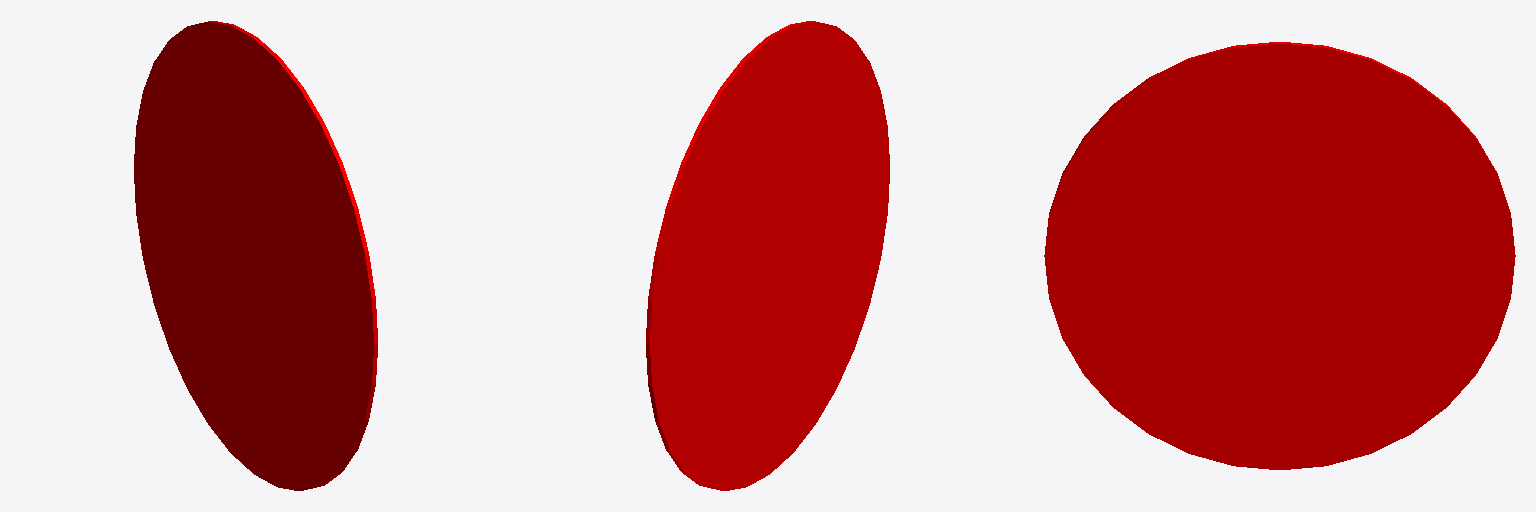
URDF robot description (ultrasonic):
<?xml version="1.0"?>
<robot name="ultrasonic">

    <material name="red">
        <color rgba="1 0 0 1"/>
    </material>
    
    <link name="base_link"/>
    
    <link name="ultrasonic">
        <collision>
            <origin xyz="0 0 0" rpy="0 1.5708 0"/>
            <geometry>
                <cylinder radius="0.001" length="0.001"/>
            </geometry>
        </collision>

        <visual>
            <origin xyz="0 0 0" rpy="0 1.5708 0"/>
            <geometry>
                <cylinder radius="0.05" length="0.001"/>
            </geometry>
            <material name="red"/>
        </visual>

        <inertial>
            <mass value="1e-5" />
            <origin xyz="0 0 0" rpy="0 0 0"/>
            <inertia ixx="1e-6" ixy="0" ixz="0" iyy="1e-6" iyz="0" izz="1e-6" />
        </inertial>
    </link>

    <joint name="fixed" type="fixed">
        <parent link="base_link"/>
        <child link="ultrasonic"/>
    </joint>

     <!-- <gazebo reference="ultrasonic_link">
      <sensor type="ray" name="ultrasonic">
        <always_on>true</always_on>
        <update_rate>5.0</update_rate>
        <pose>0 0 0 0 0 0</pose>
        <visualize>1</visualize>
        <ray>
          <scan>
            <horizontal>
              <samples>5</samples>
              <resolution>1</resolution>
              <min_angle>-0.65449847</min_angle>
              <max_angle>0.65449847</max_angle>
            </horizontal>
            <vertical>
              <samples>5</samples>
              <resolution>1</resolution>
              <min_angle>-0.65449847</min_angle>
              <max_angle>0.65449847</max_angle>
            </vertical>
          </scan>
          <range>
            <min>0.01</min>
            <max>6.0</max>
            <resolution>0.01</resolution>
          </range>
        </ray>

        <plugin name="gazebo_ros_range" filename="libgazebo_ros_range.so">
            <gaussianNoise>0.005</gaussianNoise>
            <alwaysOn>true</alwaysOn>
            <updateRate>5.0</updateRate>
            <topicName>sonar</topicName>
            <frameName>sonar_link2</frameName>
            <fov>1.3</fov>
            <radiation>ultrasound</radiation>
        </plugin>
      </sensor>
    </gazebo> -->

    <gazebo reference="ultrasonic">
        <kinematic>true</kinematic>
        <gravity>false</gravity>    
        <sensor type="ray" name="sonar">
            <pose>0 0 0 0 0 0</pose>
            <visualize>true</visualize>
            <update_rate>5</update_rate>
            <ray>
                <scan>
                    <horizontal>
                        <samples>5</samples>
                        <resolution>1.0</resolution>
                        <min_angle>-0.6545</min_angle>
                        <max_angle>0.6545</max_angle>
                    </horizontal>
                    <vertical>
                        <samples>5</samples>
                        <resolution>1</resolution>
                        <min_angle>-0.6545</min_angle>
                        <max_angle>0.6545</max_angle>
                    </vertical>
                </scan>
                <range>
                    <min>0.01</min>
                    <max>6.0</max>
                    <!-- <resolution>0.01</resolution> -->
                </range>
            </ray>
            <plugin filename="libgazebo_ros_range.so" name="gazebo_ros_range">
                <gaussianNoise>0.005</gaussianNoise>
                <alwaysOn>true</alwaysOn>
                <updateRate>5</updateRate>
                <topicName>/sonar</topicName>
                <frameName>ultrasonic</frameName>
                <fov>22.392304</fov>                 <!-- radius -->
                <radiation>ultrasound</radiation>
            </plugin>
        </sensor>
    </gazebo>

</robot>

--- Render facts (derived) ---
3 views of the same robot in one strip: view 1: azimuth 30°, elevation 25°; view 2: azimuth 150°, elevation 25°; view 3: azimuth 270°, elevation 25° (orthographic).
Robot: ultrasonic — 2 links, 1 joints (1 fixed); root link base_link; default pose: all joints at 0.
Visible links, largest first — view 1: ultrasonic; view 2: ultrasonic; view 3: ultrasonic.
Link boxes in pixels (x1=…): ultrasonic: x1=134, y1=21, x2=377, y2=490; ultrasonic: x1=646, y1=21, x2=889, y2=490; ultrasonic: x1=1044, y1=42, x2=1515, y2=469.
Bounding box of the posed robot: 0.001 × 0.1 × 0.1 m (x, y, z).
Geometry: primitives only (box / cylinder / sphere), no mesh files.
